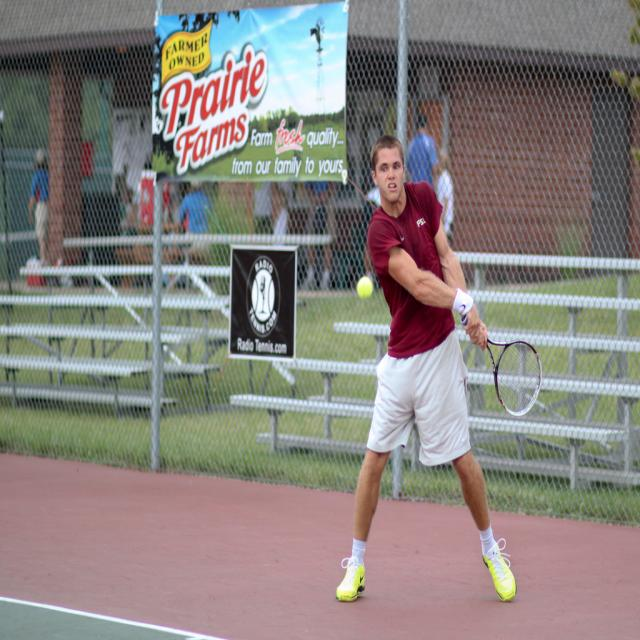Tennis ball: (357, 275, 372, 299)
